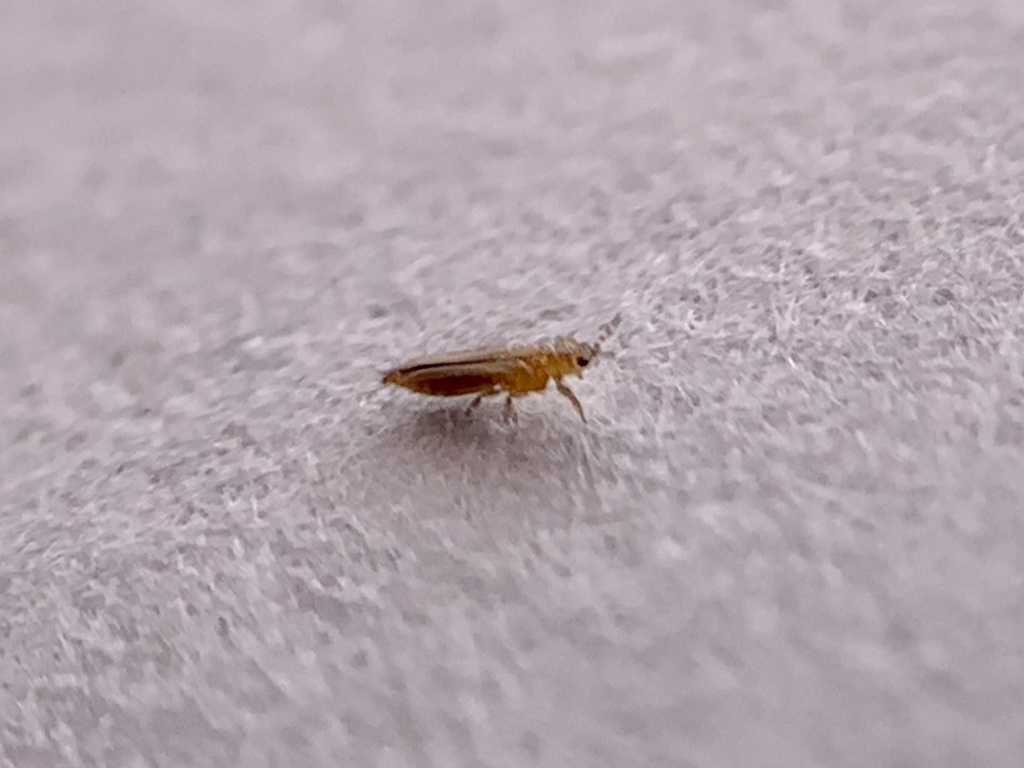tiny_pests: (325, 252, 696, 507)
